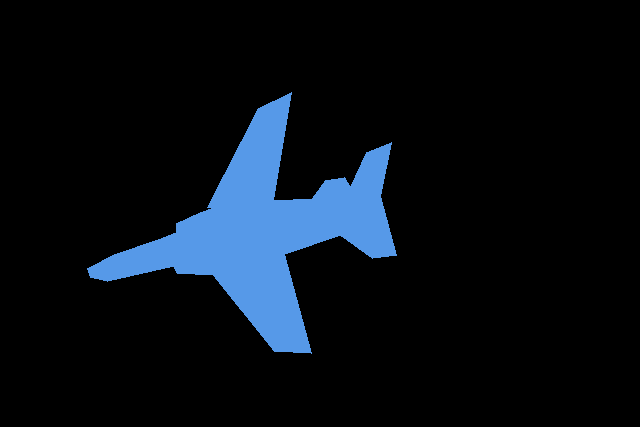Airplane: (87, 92, 396, 353)
